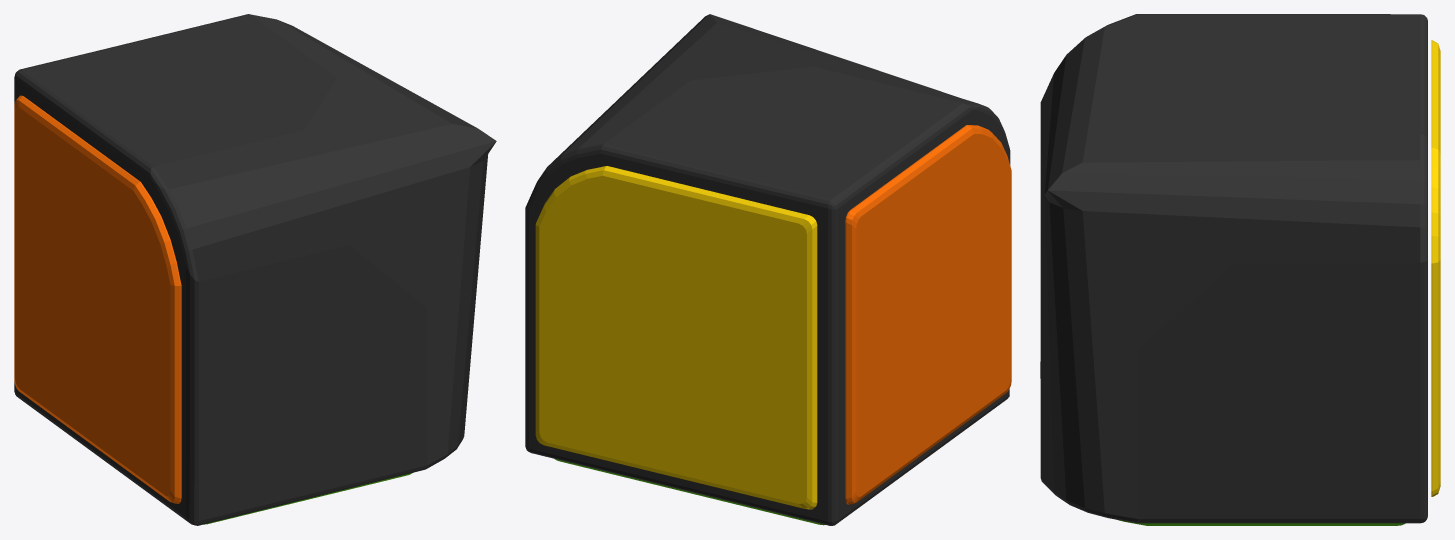
The picture shows the model from 3 angles, left to right: view 1: azimuth 30°, elevation 25°; view 2: azimuth 150°, elevation 25°; view 3: azimuth 270°, elevation 25°; orthographic projection. The views are drawn at different scales.
Parts seen in each view (by area): view 1: Cube.019, Cube.051; view 2: Cube.080, Cube.019, Cube.051; view 3: Cube.019, Cube.080, Cube.046.
Boxes of the visible parts, x1=… form: Cube.019: x1=14, y1=14, x2=496, y2=525; Cube.051: x1=14, y1=95, x2=181, y2=503; Cube.080: x1=535, y1=166, x2=817, y2=509; Cube.019: x1=525, y1=14, x2=1010, y2=525; Cube.051: x1=845, y1=125, x2=1011, y2=504; Cube.019: x1=1040, y1=14, x2=1427, y2=523; Cube.080: x1=1431, y1=40, x2=1440, y2=496; Cube.046: x1=1118, y1=520, x2=1405, y2=525.
Size of the model in its own units: 206 by 206 by 207.
